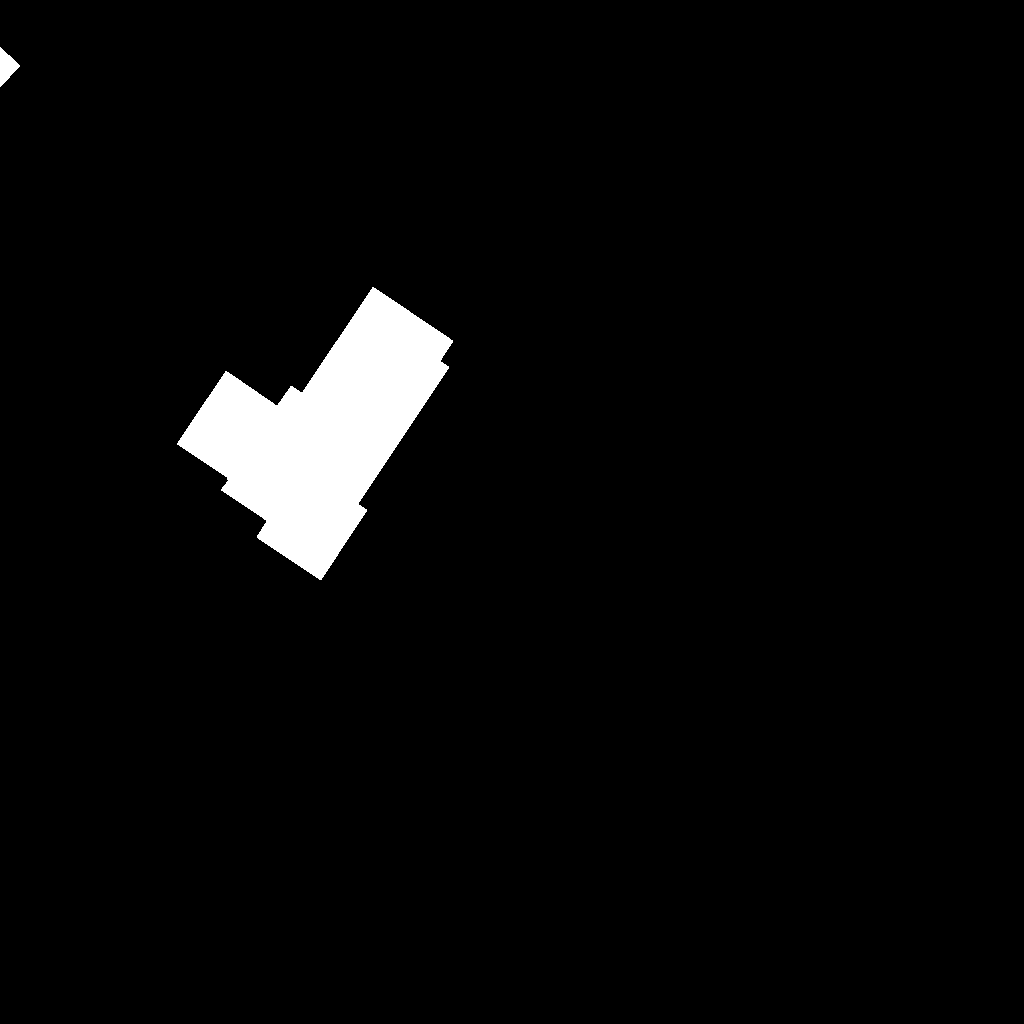building: (177, 287, 454, 581), (0, 47, 21, 88)
